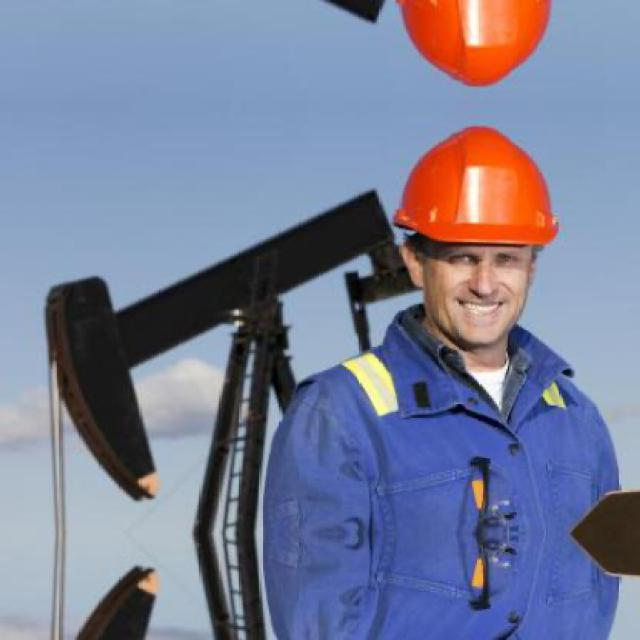con casco: (331, 107, 568, 426)
